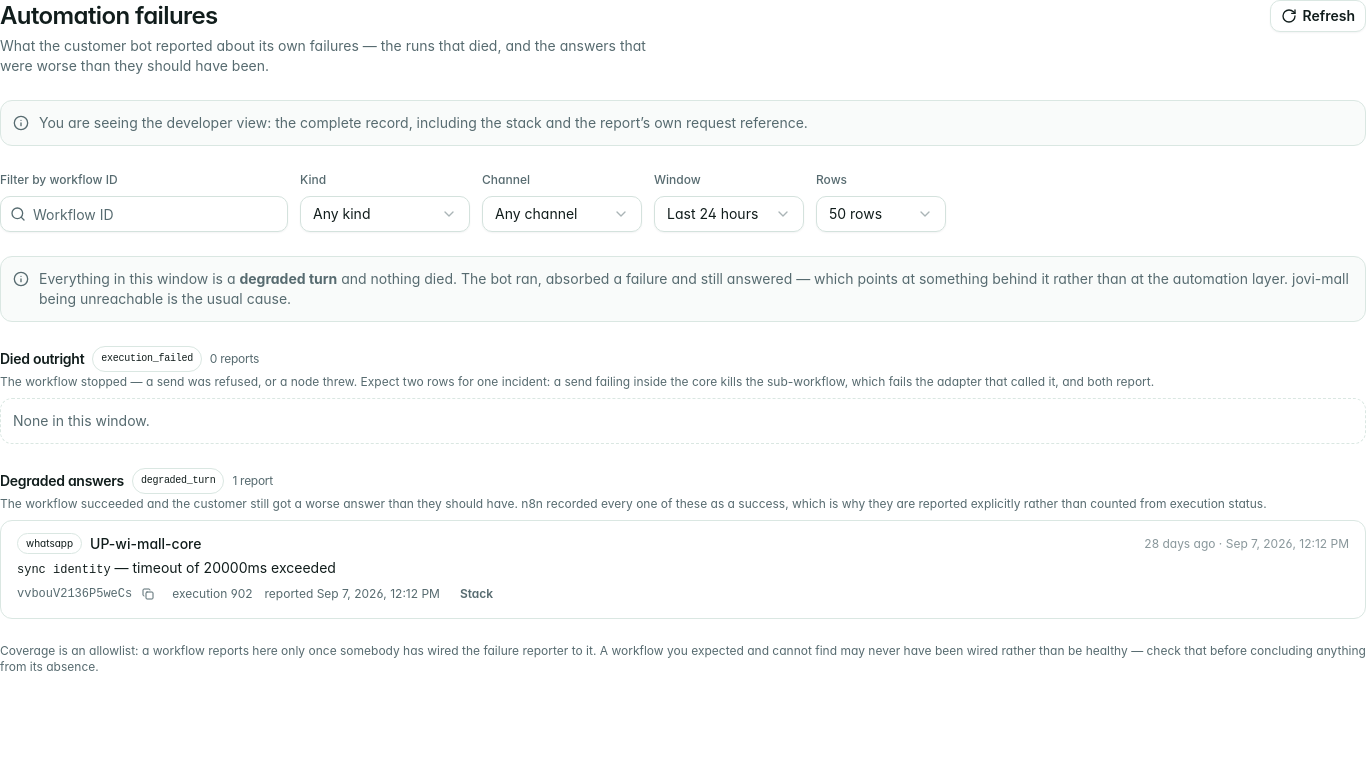
Test: Failures — the projection is the server’s, and it is rendered › offers the stack only on a row that carries the key
Click the button "Stack" at (476, 594), box [452,582,501,606]
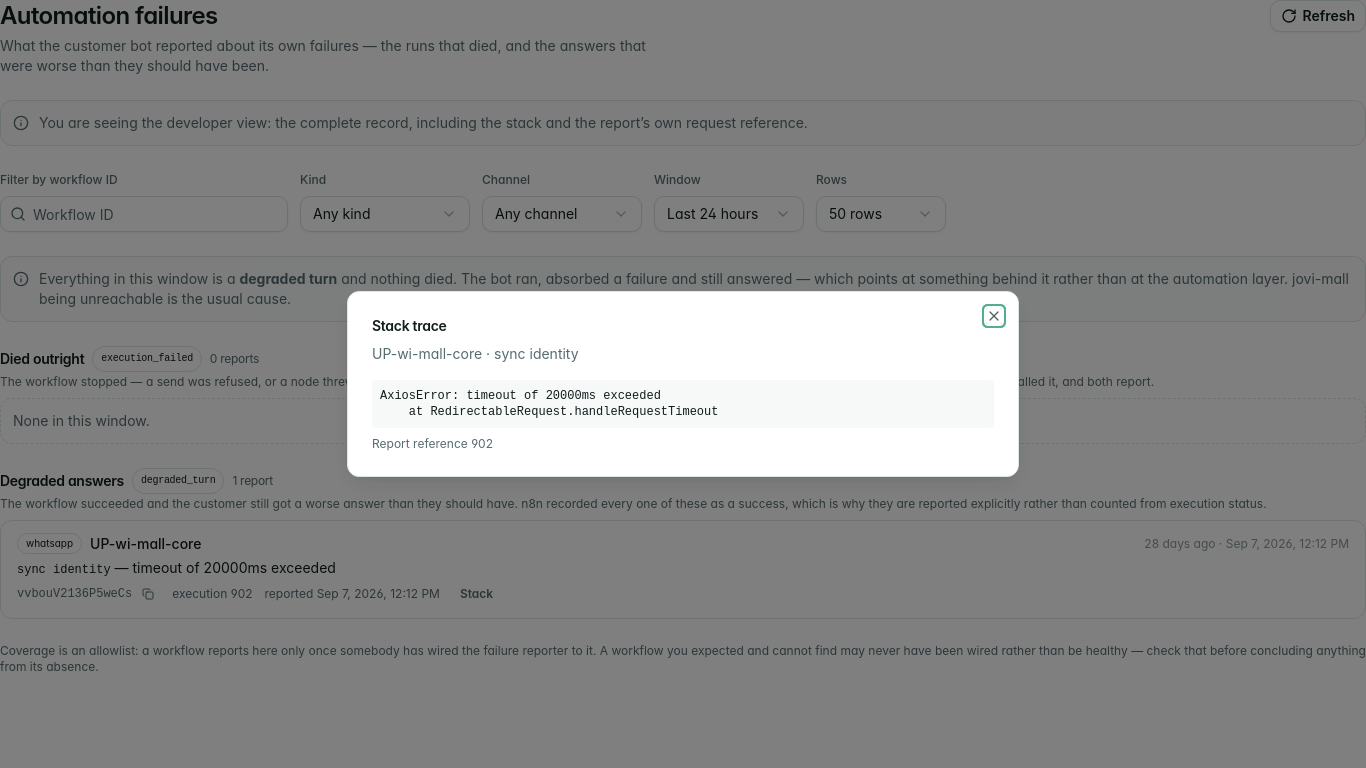
Expected: the text "AxiosError: timeout of 20000ms exceeded" is shown, [380,389,718,419]
